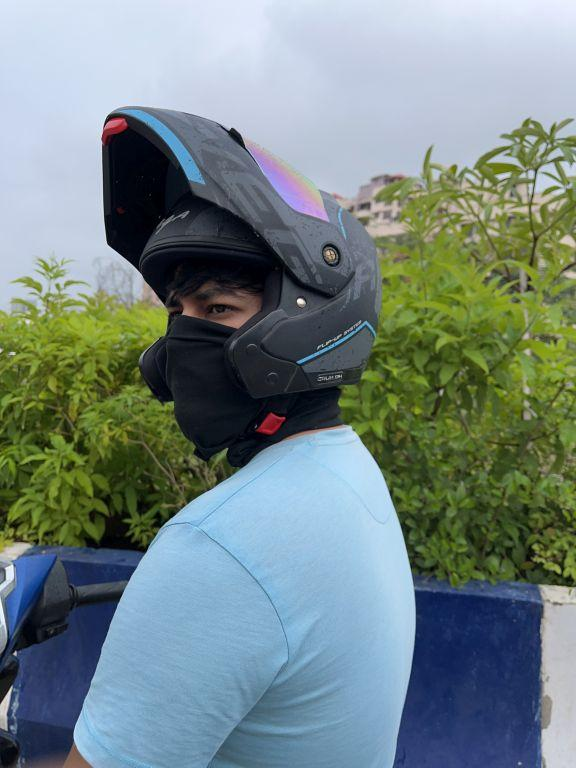helmet: (85, 89, 386, 463)
